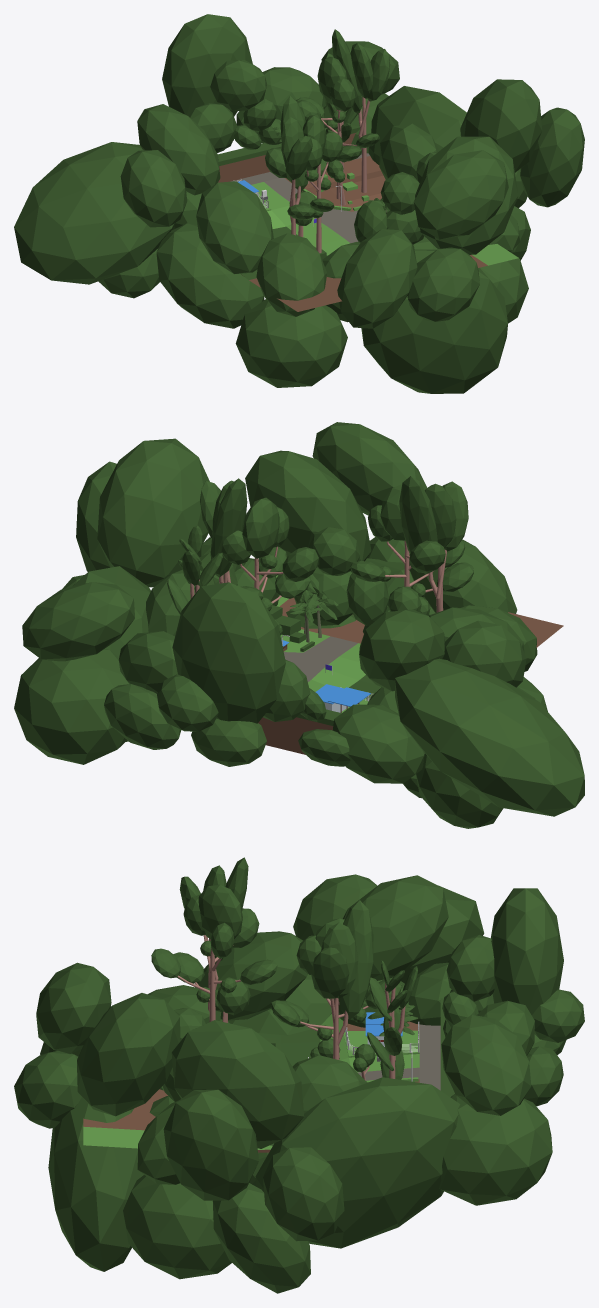
File: NationalPark.fbx
3 views of the same model, one above another, from view 1: azimuth 30°, elevation 25°; view 2: azimuth 150°, elevation 25°; view 3: azimuth 270°, elevation 25° (orthographic). The views are drawn at different scales.
Parts seen in each view (by area): view 1: Icosphere.003, Cube, Cylinder.014, Icosphere, Cylinder.010, Cylinder.015, Cylinder.004; view 2: Icosphere.003, Cube, Cylinder.010, Cylinder.014, Cylinder.015, Icosphere, Cylinder.004, Icosphere.005, building_008.001, Cylinder.016, Cube.004; view 3: Icosphere.003, Cube, Cylinder.014, Icosphere, Cylinder.004, Cylinder.010, Cylinder.015, Cylinder.016.
Boxes of the visible parts, box(x1,y1,x2,y2) form: Icosphere.003: box(14, 14, 584, 393); Cube: box(218, 125, 518, 311); Cylinder.014: box(265, 114, 342, 253); Icosphere: box(332, 29, 390, 192); Cylinder.010: box(296, 56, 379, 199); Cylinder.015: box(280, 96, 312, 235); Cylinder.004: box(325, 53, 362, 172); Icosphere.003: box(14, 422, 584, 828); Cube: box(258, 571, 563, 754); Cylinder.010: box(221, 497, 318, 611); Cylinder.014: box(350, 484, 473, 596); Cylinder.015: box(399, 476, 468, 612); Icosphere: box(200, 478, 247, 583); Cylinder.004: box(167, 525, 222, 614); Icosphere.005: box(290, 574, 338, 642); building_008.001: box(315, 684, 370, 712); Cylinder.016: box(387, 586, 430, 615); Cube.004: box(269, 605, 314, 651); Icosphere.003: box(14, 874, 584, 1293); Cube: box(83, 998, 454, 1152); Cylinder.014: box(151, 884, 277, 1021); Icosphere: box(311, 900, 373, 1059); Cylinder.004: box(367, 960, 417, 1079); Cylinder.010: box(271, 918, 401, 1059); Cylinder.015: box(179, 857, 248, 1011); Cylinder.016: box(209, 978, 250, 1022).
Size of the model in its own units: 19142 by 11087 by 16128.
